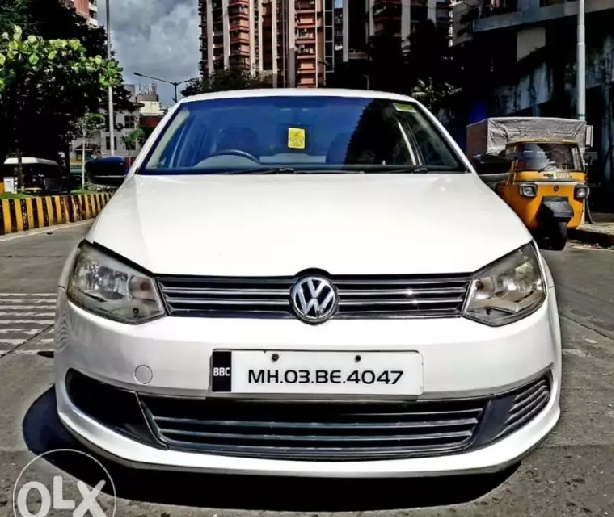licenseplate: (213, 346, 425, 398)
